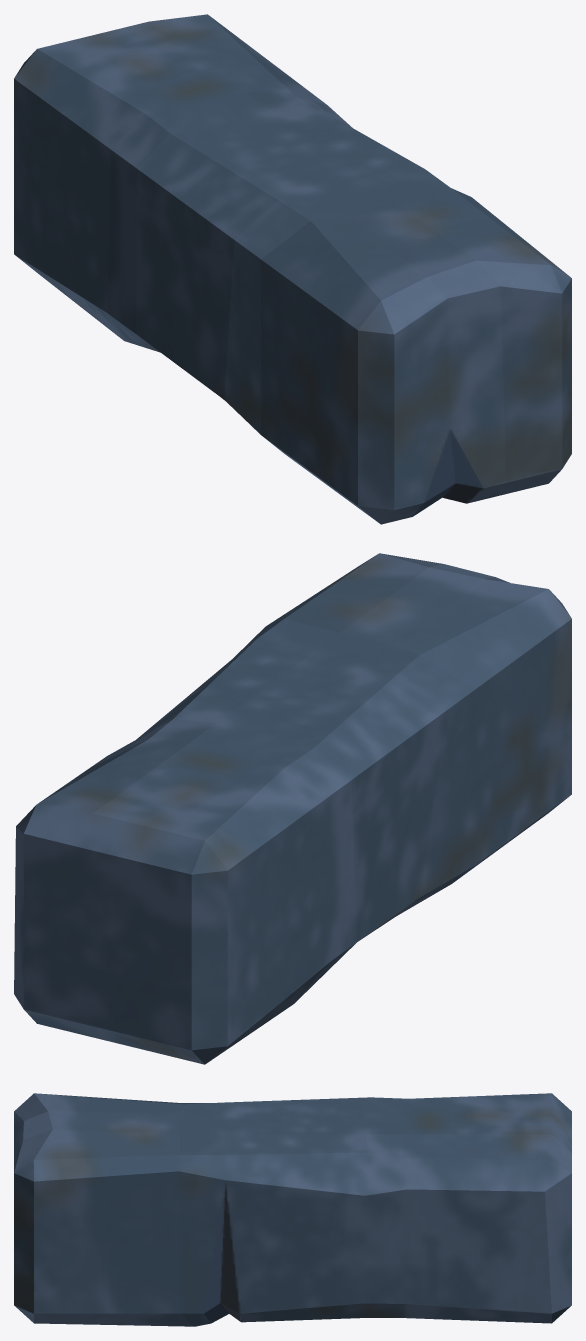
File: Tetris_6.fbx
3 views of the same model, one above another, from view 1: azimuth 30°, elevation 25°; view 2: azimuth 150°, elevation 25°; view 3: azimuth 270°, elevation 25° (orthographic). The views are drawn at different scales.
Parts seen in each view (by area): view 1: Tetris_1.007; view 2: Tetris_1.007; view 3: Tetris_1.007.
Boxes of the visible parts, <box> form: Tetris_1.007: <box>14,14,571,524</box>; Tetris_1.007: <box>14,553,571,1064</box>; Tetris_1.007: <box>14,1093,571,1326</box>.
Bounding box in the file's own units: 210 × 212 × 600.
